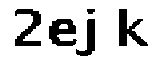2: (12, 7, 45, 51)
e: (48, 16, 82, 50)
j: (76, 7, 99, 60)
k: (114, 5, 150, 52)
